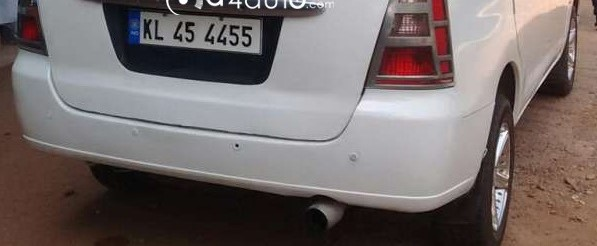KL454455: (126, 7, 263, 56)
